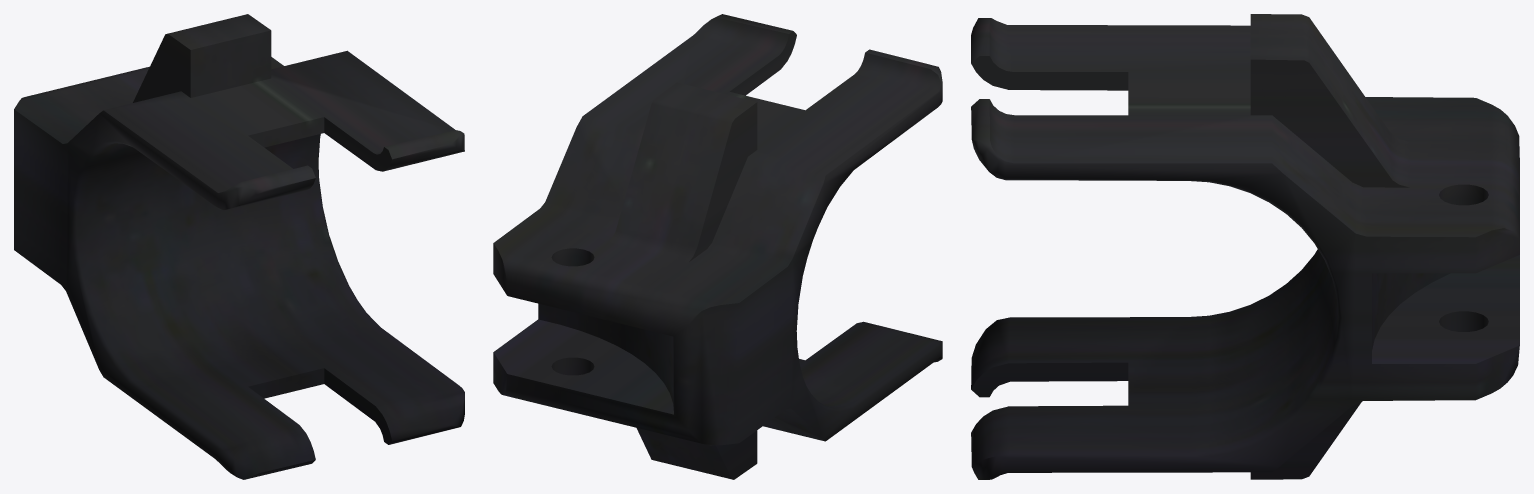
Rendered from Swivel_Mount.dae.
The picture shows the model from 3 angles, left to right: view 1: azimuth 30°, elevation 25°; view 2: azimuth 150°, elevation 25°; view 3: azimuth 270°, elevation 25°; orthographic projection. The views are drawn at different scales.
Parts seen in each view (by area): view 1: Swivel_Mount; view 2: Swivel_Mount; view 3: Swivel_Mount.
Part boxes in pixels (x1,y1,x2,y2): Swivel_Mount: (14, 14, 464, 479); Swivel_Mount: (493, 14, 942, 479); Swivel_Mount: (971, 14, 1519, 479).
Size of the model in its own units: 0.0204 by 0.034 by 0.0287.
Materials: 1 (1 with a texture image).
